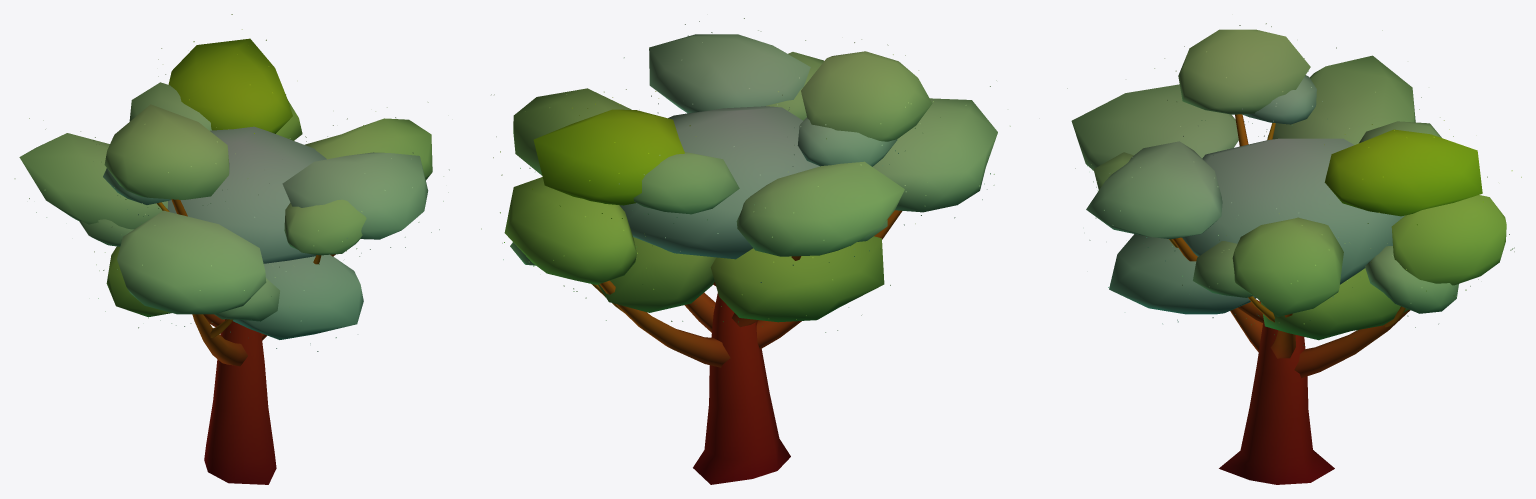
The model's file is card_oak.glb.
3 renders of one model, left to right at view 1: azimuth 30°, elevation 25°; view 2: azimuth 150°, elevation 25°; view 3: azimuth 270°, elevation 25°, orthographic. The views are drawn at different scales.
Visible parts, largest first — view 1: card_oak_LOD0; view 2: card_oak_LOD0; view 3: card_oak_LOD0.
Boxes of the visible parts, x1=… form: card_oak_LOD0: x1=14, y1=14, x2=449, y2=484; card_oak_LOD0: x1=481, y1=18, x2=1010, y2=484; card_oak_LOD0: x1=1067, y1=23, x2=1521, y2=484.
Size of what is drawn, in the model's own units: 9.23 by 8.15 by 8.99.
